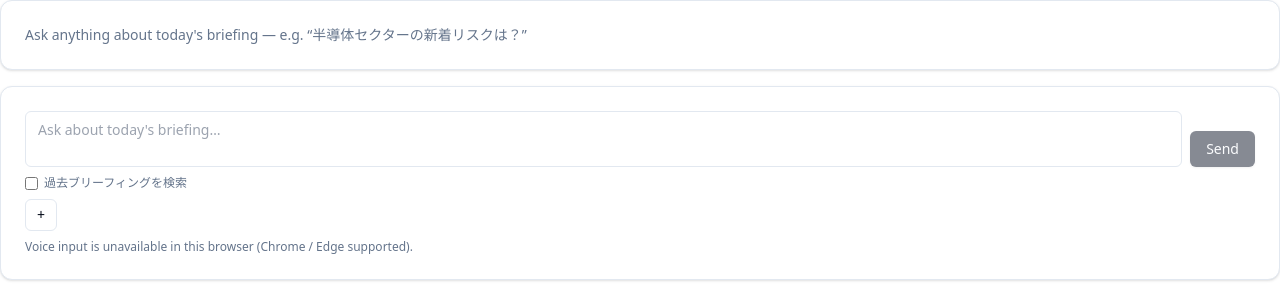
Test: ChatForm › enables send once the input is non-empty
This screenshot has width=1280, height=298.
Type "hi" into the text box with test id "chat-input" at (604, 139), box [25, 111, 1182, 167]
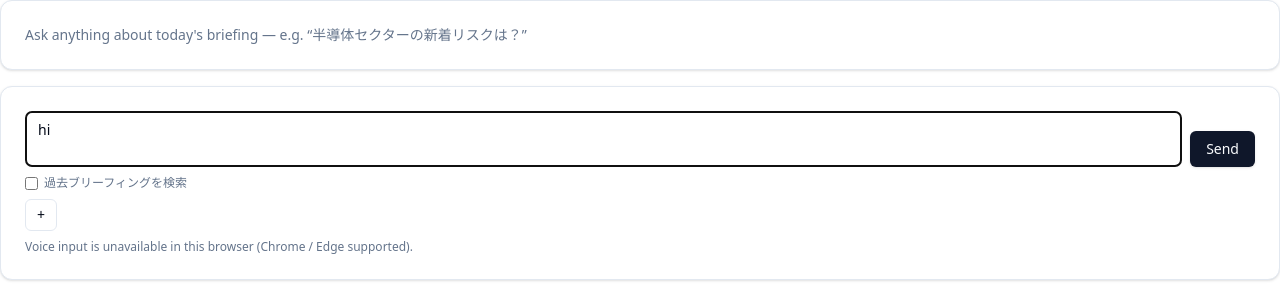
Result: the button with test id "send-button" is enabled at [1190, 131, 1255, 167]
